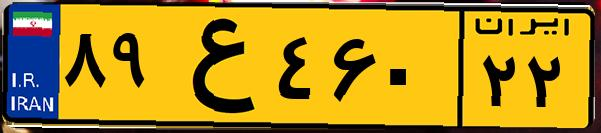0: (385, 28, 445, 110)
2: (475, 38, 525, 113), (525, 38, 570, 115)
4: (270, 28, 330, 110)
6: (330, 28, 385, 110)
8: (57, 26, 110, 100)
9: (110, 28, 158, 98)
ع: (158, 12, 270, 120)
